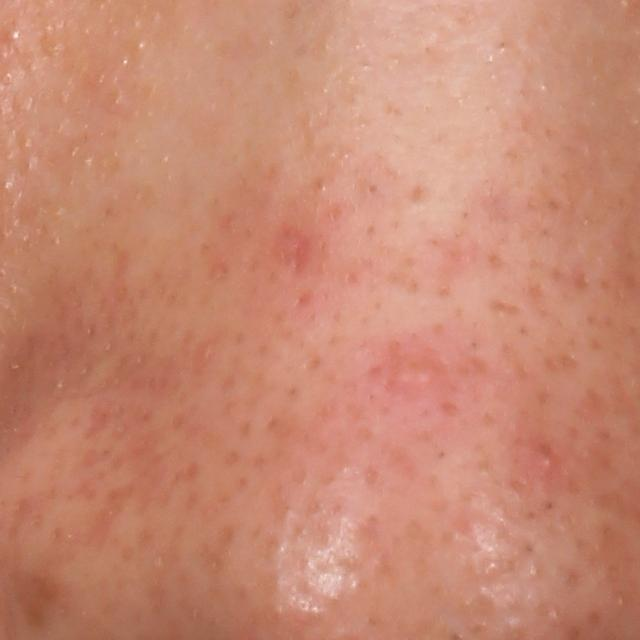comedo: (524, 442, 573, 486), (5, 28, 22, 45)
